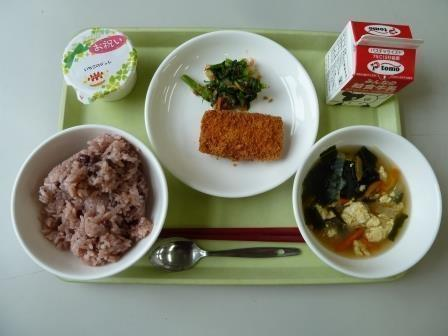Milk: (312, 19, 416, 111)
Mixed rice: (15, 139, 153, 271)
Soups: (288, 129, 437, 275)
cutlet: (187, 102, 296, 173)
salad with sauce: (185, 55, 277, 107)
